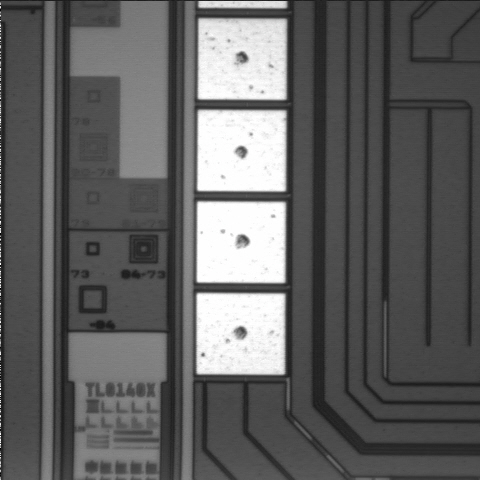pad: (197, 201, 286, 283), (197, 293, 285, 375), (197, 110, 286, 191), (198, 19, 286, 100)
